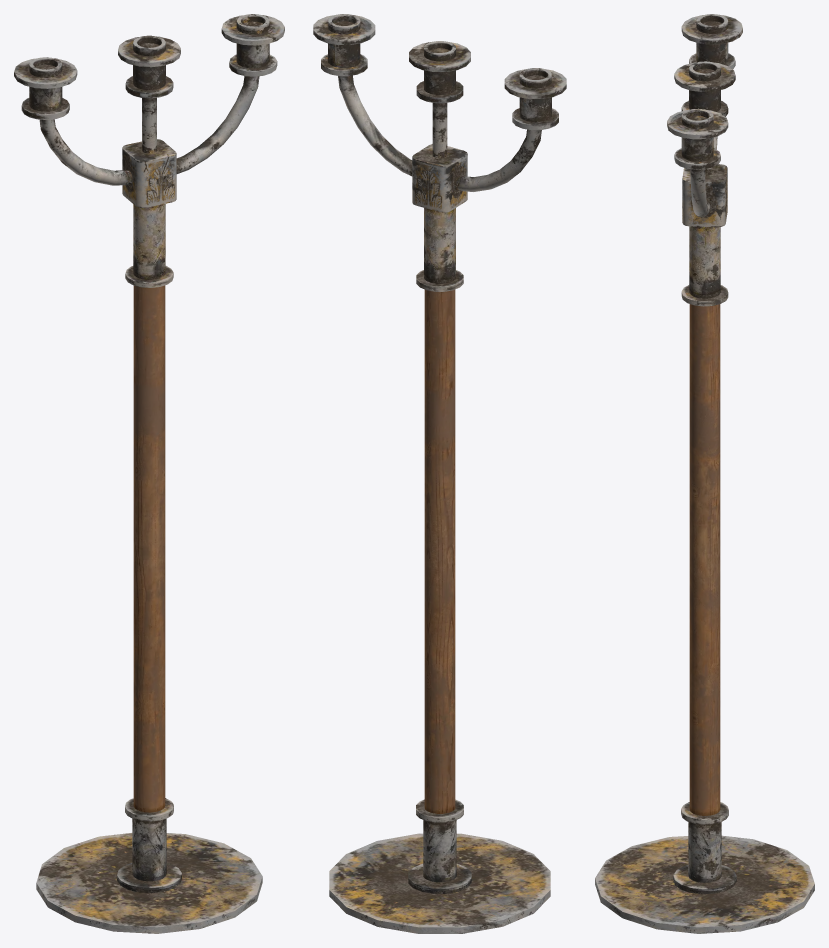
File: candelabro.glb
3 views of the same model, side by side, from view 1: azimuth 30°, elevation 25°; view 2: azimuth 150°, elevation 25°; view 3: azimuth 270°, elevation 25° (orthographic). The views are drawn at different scales.
Parts seen in each view (by area): view 1: Cylinder.023; view 2: Cylinder.023; view 3: Cylinder.023.
Part boxes in pixels (x1,y1,x2,y2): Cylinder.023: (14, 14, 284, 933); Cylinder.023: (313, 14, 566, 933); Cylinder.023: (595, 14, 814, 933).
Size of the model in its own units: 0.5801 by 1.84 by 0.4464.
1 material, 1 textured.
